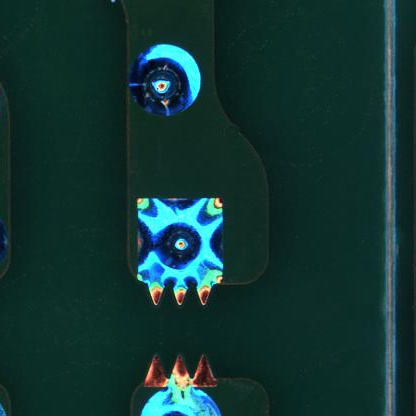spot: (129, 185, 235, 310), (125, 40, 206, 120)
